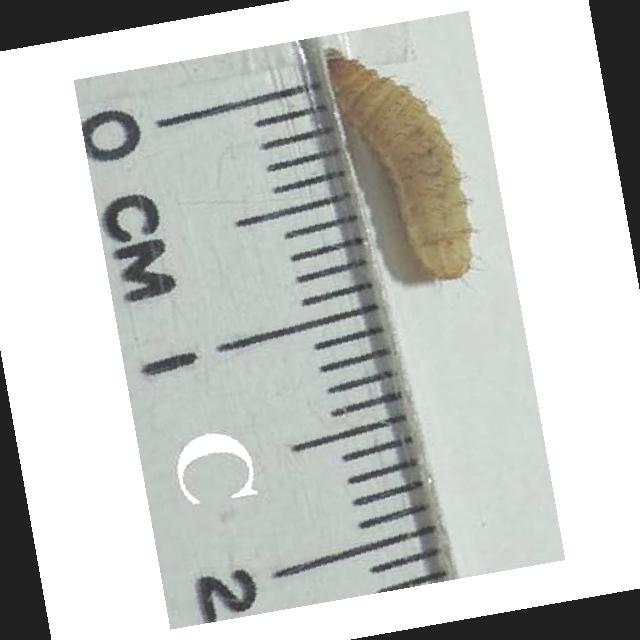Maggot: (319, 42, 488, 280)
